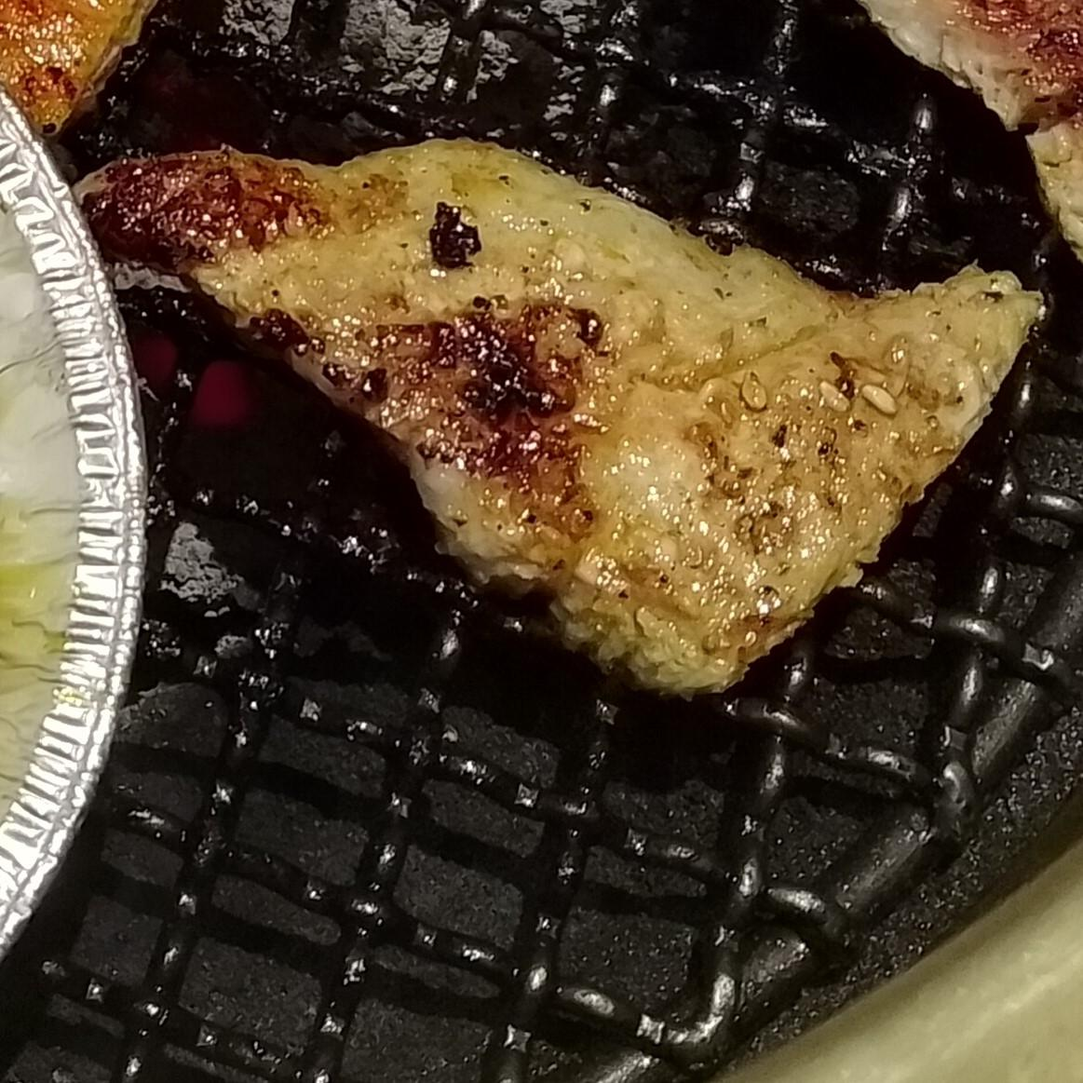Overcooked: (74, 141, 1044, 696)
